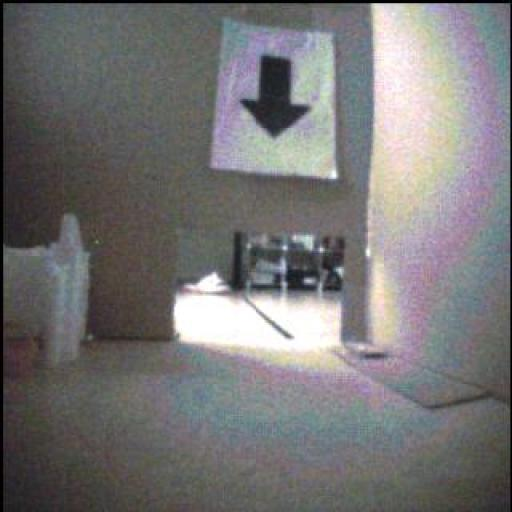arrow: (243, 57, 312, 139)
